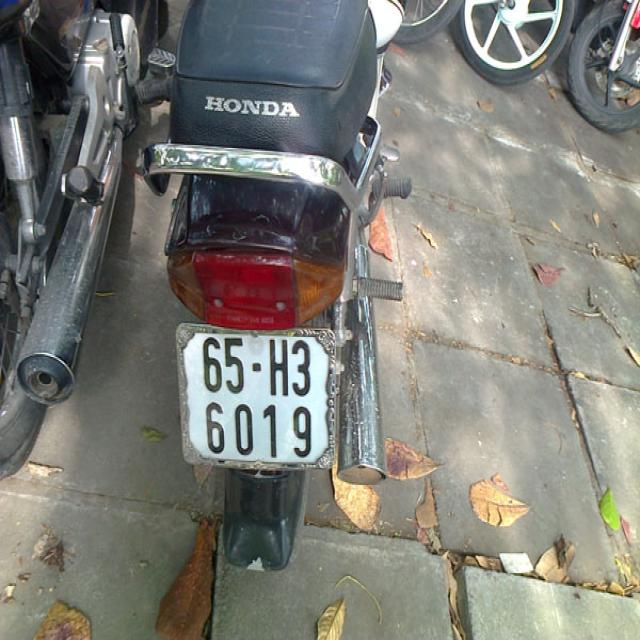bienxe: (175, 323, 344, 479)
